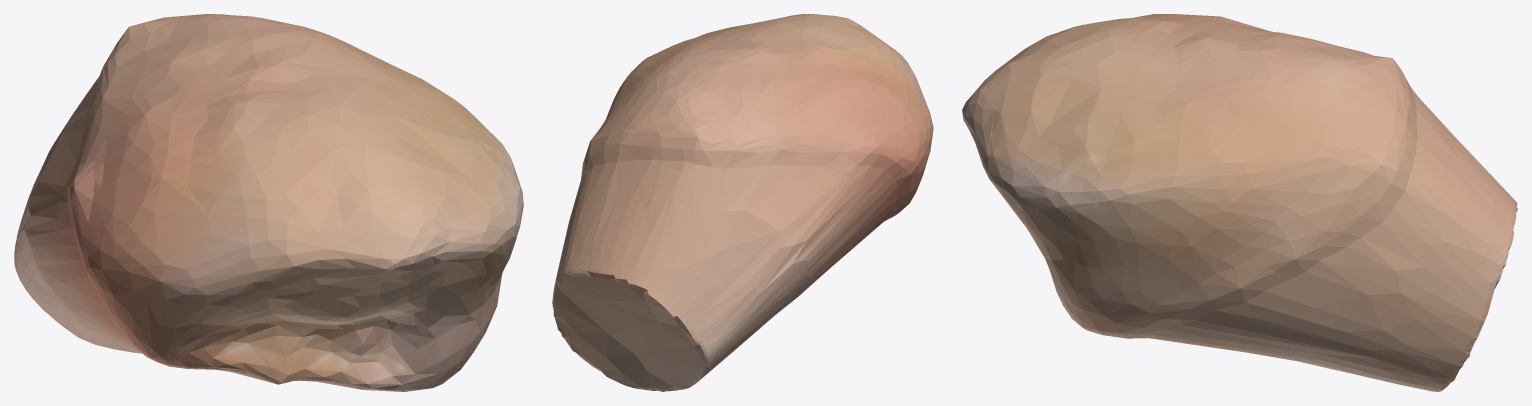
The model's file is local_t13_7780.OBJ.
3 renders of one model, left to right at view 1: azimuth 30°, elevation 25°; view 2: azimuth 150°, elevation 25°; view 3: azimuth 270°, elevation 25°, orthographic. The views are drawn at different scales.
Visible parts, largest first — view 1: ZBrush_defualt_group; view 2: ZBrush_defualt_group; view 3: ZBrush_defualt_group.
Part boxes in pixels (x1=…): ZBrush_defualt_group: x1=14, y1=14, x2=523, y2=391; ZBrush_defualt_group: x1=552, y1=14, x2=933, y2=391; ZBrush_defualt_group: x1=962, y1=14, x2=1517, y2=391.
Bounding box in the file's own units: 7.77 × 7.32 × 11.19.
Materials: 1 (1 with a texture image).
